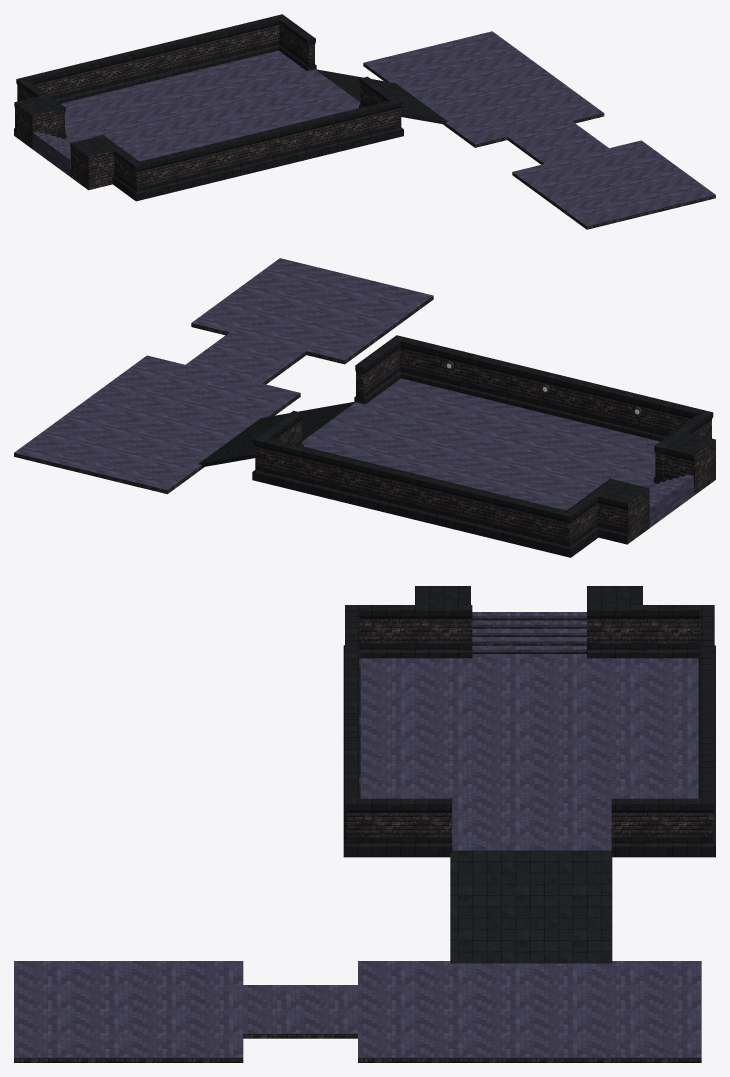
File: level1.glb
3 renders of one model, top to bottom at view 1: azimuth 30°, elevation 25°; view 2: azimuth 150°, elevation 25°; view 3: azimuth 270°, elevation 25°, orthographic. The views are drawn at different scales.
Visible parts, largest first — view 1: mergedBlocks(Clone); view 2: mergedBlocks(Clone); view 3: mergedBlocks(Clone).
Part boxes in pixels (left/top/right/bottom): mergedBlocks(Clone): left=14, top=14, right=715, bottom=229; mergedBlocks(Clone): left=14, top=258, right=715, bottom=557; mergedBlocks(Clone): left=14, top=586, right=715, bottom=1062.
Size of the model in its own units: 15.4 by 2.2 by 12.25.
Materials: 7 (3 with a texture image).
